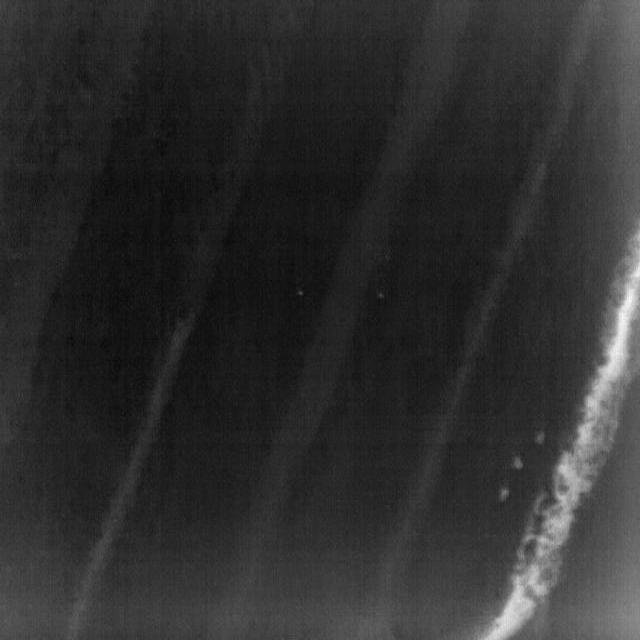deer: (511, 454, 524, 470), (534, 430, 547, 446), (499, 488, 510, 502)
